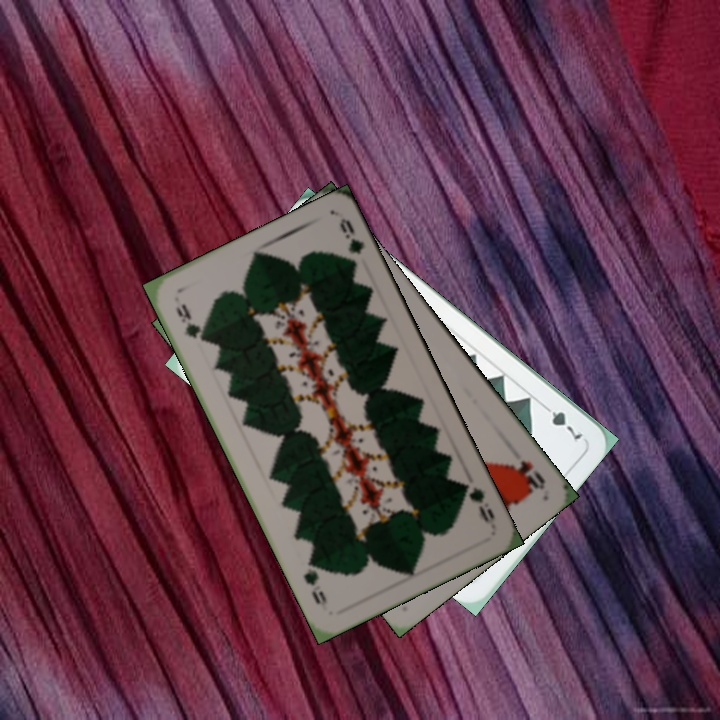G7: (537, 399, 585, 444)
G9: (456, 478, 498, 530), (171, 299, 209, 347)
HO: (508, 456, 548, 492)
